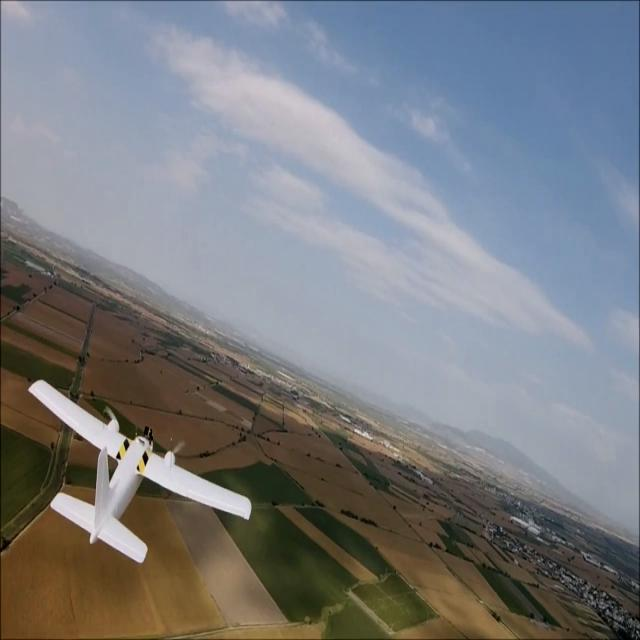iha: (26, 372, 256, 578)
